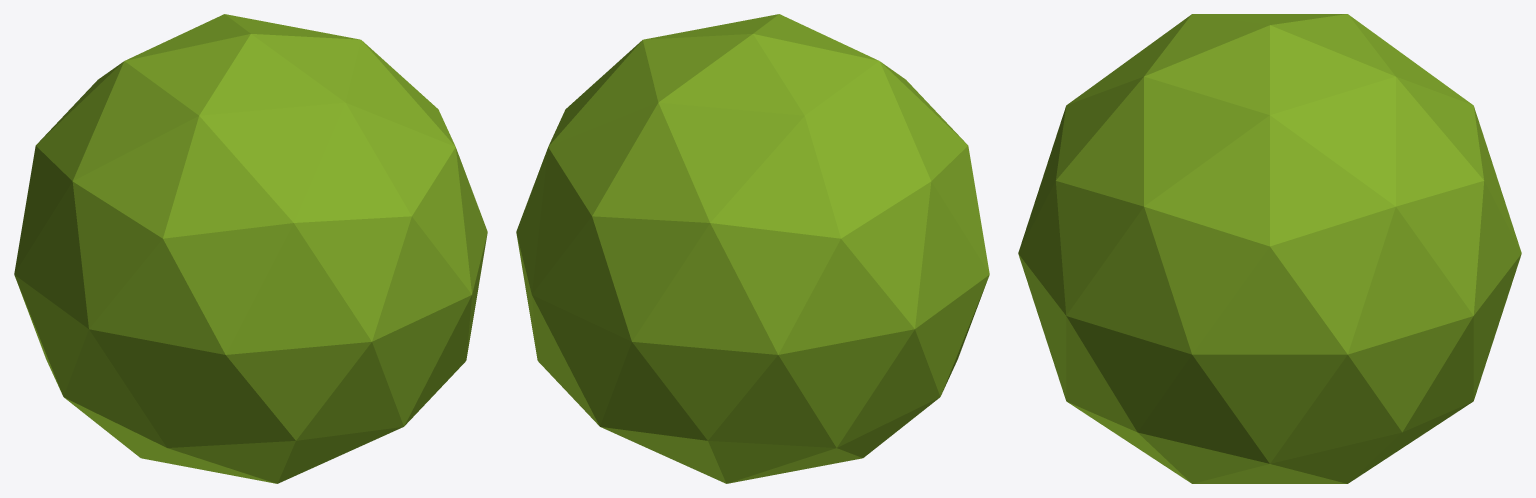
File: vege.dae
3 renders of one model, left to right at view 1: azimuth 30°, elevation 25°; view 2: azimuth 150°, elevation 25°; view 3: azimuth 270°, elevation 25°, orthographic. The views are drawn at different scales.
Parts seen in each view (by area): view 1: Icosphere; view 2: Icosphere; view 3: Icosphere.
Part boxes in pixels (x1,y1,x2,y2): Icosphere: (14,14,487,483); Icosphere: (516,14,989,483); Icosphere: (1018,14,1521,483).
Size of the model in its own units: 0.1629 by 0.1713 by 0.1552.
